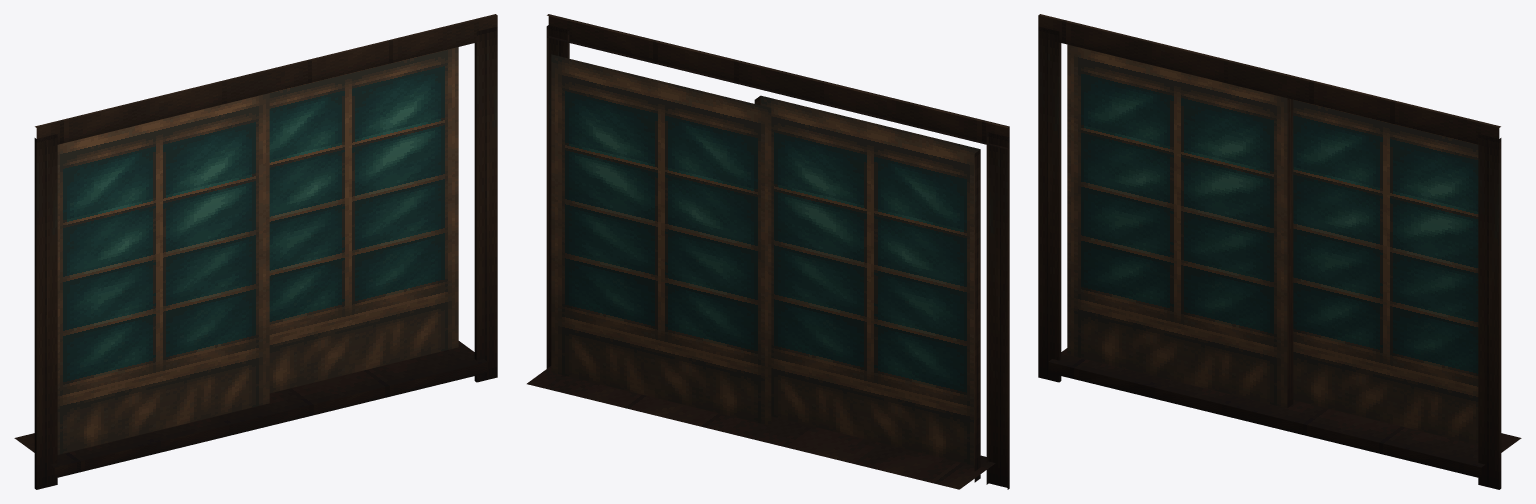
The model's file is prop_sash-12-9-1.glb.
The picture shows the model from 3 angles, left to right: view 1: azimuth 30°, elevation 25°; view 2: azimuth 150°, elevation 25°; view 3: azimuth 330°, elevation 25°; orthographic projection.
Parts seen in each view (by area): view 1: prop_sash-12-9-1; view 2: prop_sash-12-9-1; view 3: prop_sash-12-9-1.
Part boxes in pixels (x1,y1,x2,y2): prop_sash-12-9-1: (14,14,497,489); prop_sash-12-9-1: (527,14,1009,489); prop_sash-12-9-1: (1038,14,1521,489).
Bounding box in the file's own units: 1.32 × 0.99 × 0.2.
Materials: 2 (2 with a texture image).
